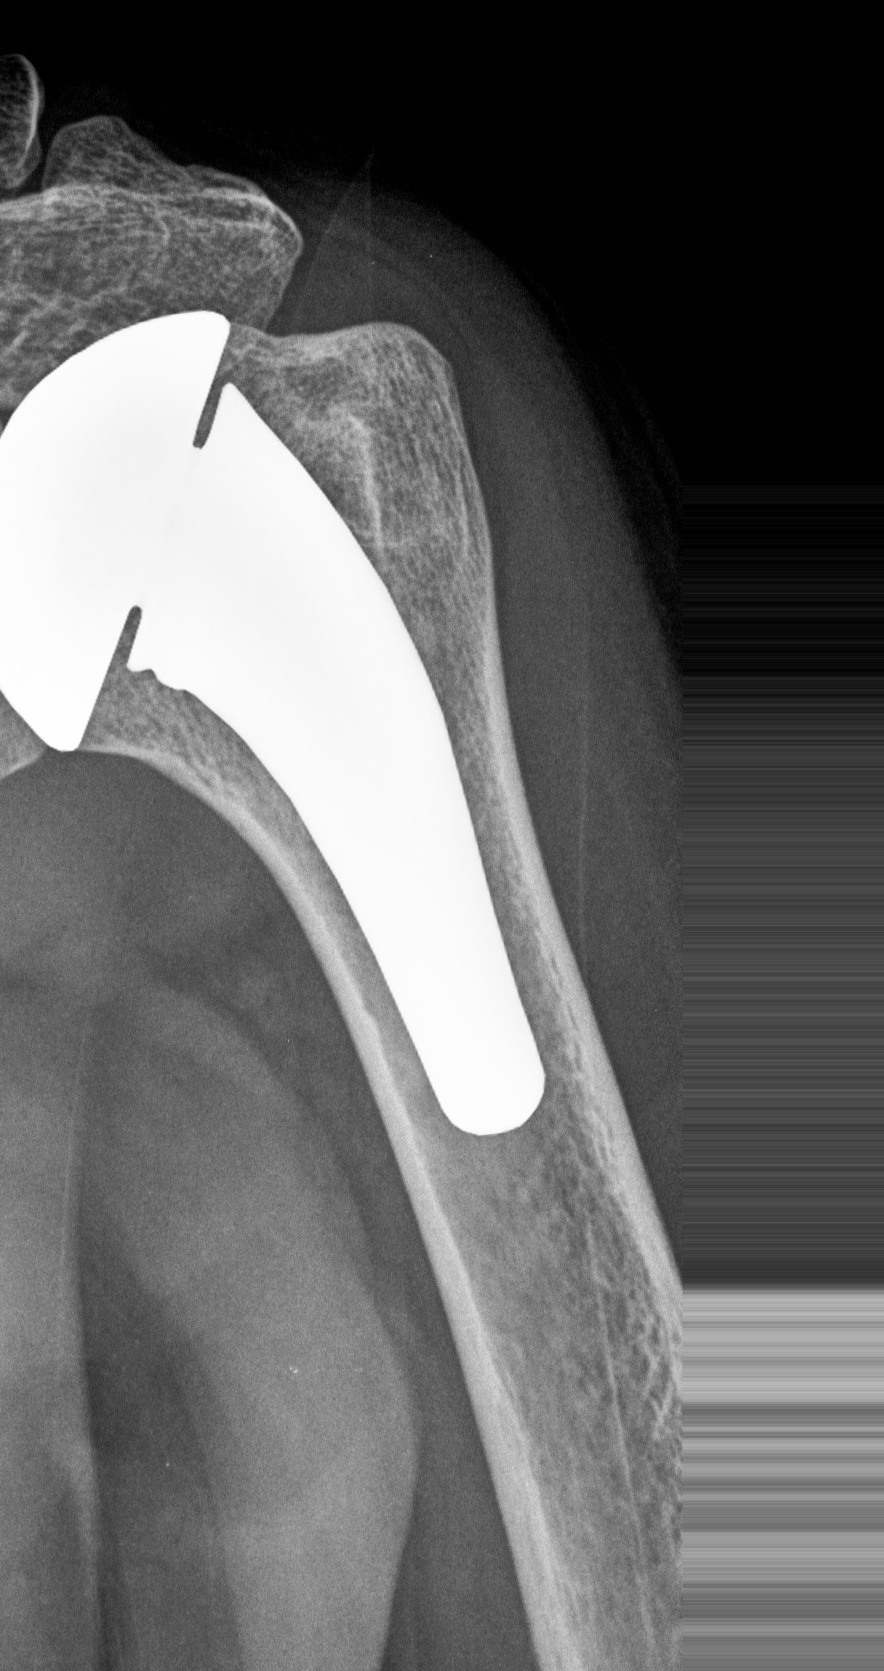Shoulder - AequalisAscendFlex - Tornier: (2, 290, 257, 777)
